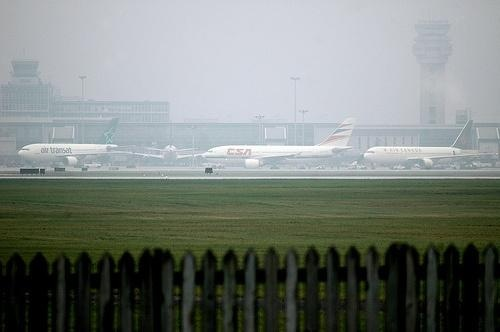aeroplane: (203, 116, 360, 172), (362, 119, 492, 172), (19, 117, 131, 174), (118, 125, 213, 172)
